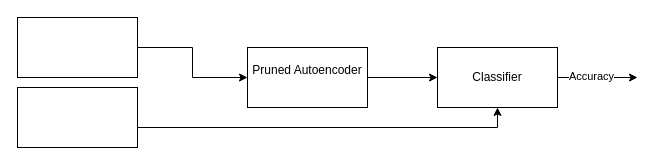
This 663x165 diagram has some shape labels left out. The shapes that lost their labels are listed below. From the top down, each one's box as (x1, y1, x2, y2) in pixels, then its label:
(16, 16, 138, 78): Data
(16, 86, 138, 148): Labels
